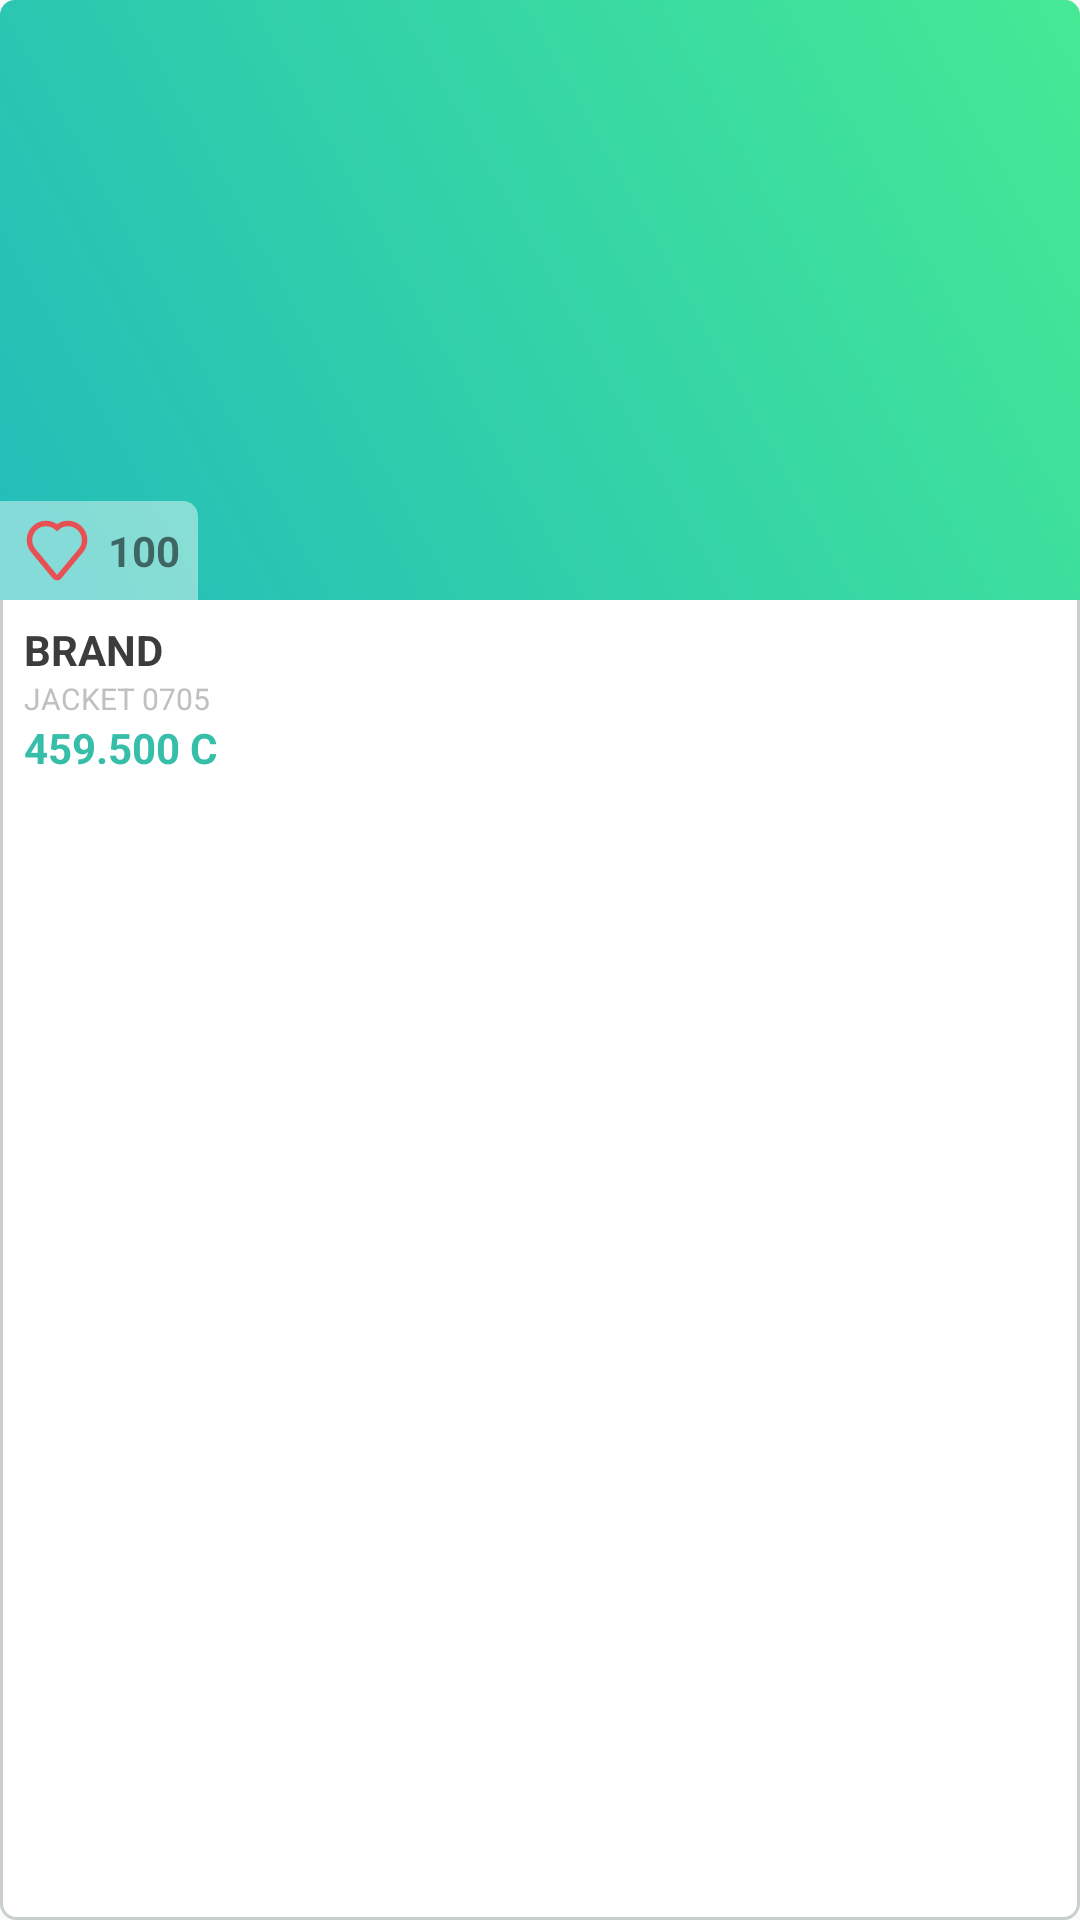

Screen size 1080x1920. Icon name, then its box in pixels as (x1, y1, x2, y2):
love: (26, 520, 88, 581)
